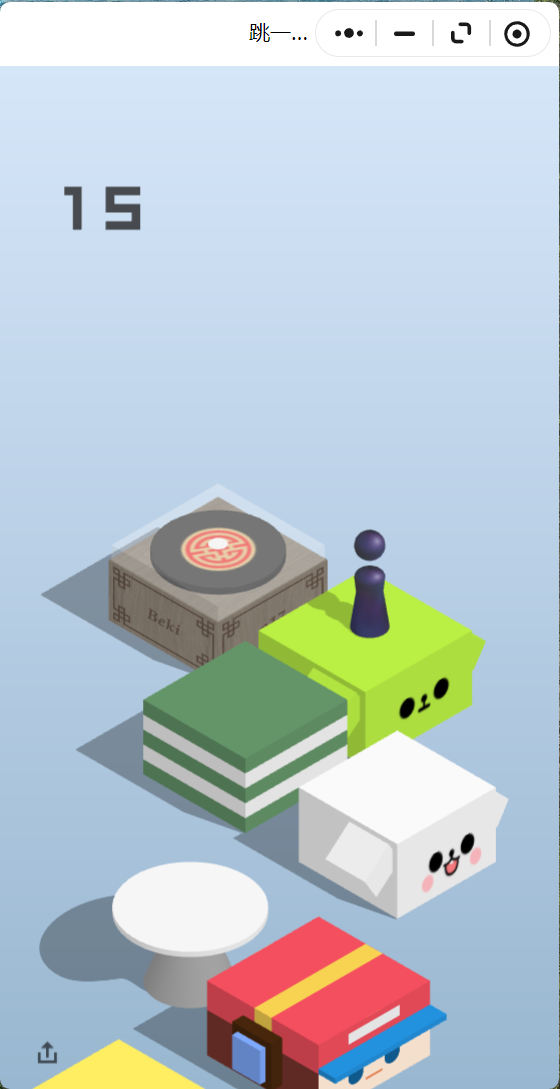piece: (354, 530, 385, 633)
target: (113, 483, 325, 606)
